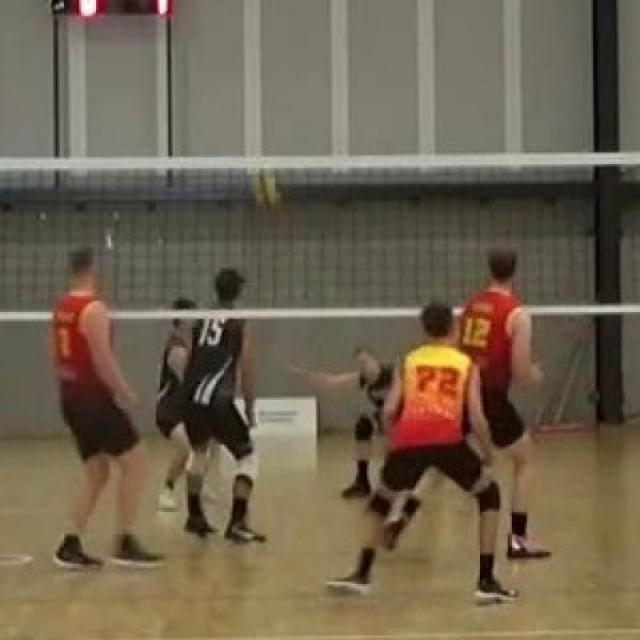volleyball: (246, 164, 288, 212)
